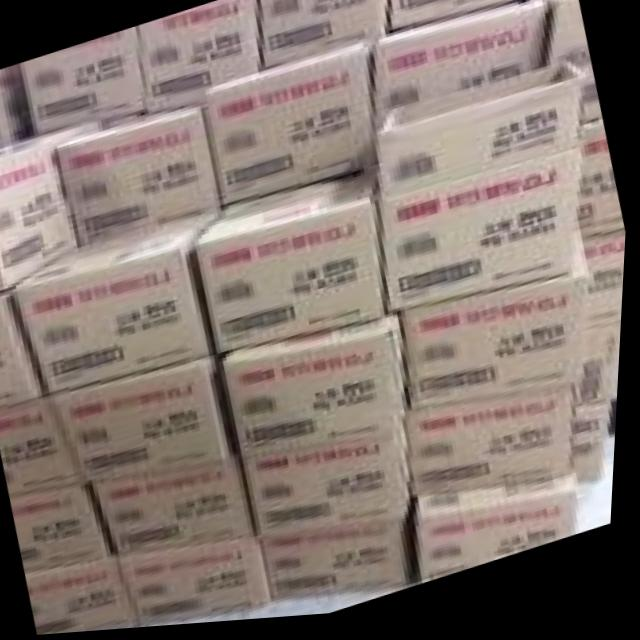box: (404, 212, 594, 417), (12, 214, 223, 394), (198, 174, 388, 357), (384, 154, 585, 318), (221, 314, 417, 463), (206, 41, 374, 214), (377, 68, 588, 204), (374, 1, 546, 153), (46, 357, 243, 486), (58, 110, 223, 246), (243, 420, 419, 545), (417, 477, 586, 591), (0, 120, 106, 294), (413, 393, 579, 504), (90, 463, 265, 559), (265, 508, 424, 605), (139, 0, 263, 118), (118, 545, 282, 630), (17, 27, 141, 135), (258, 0, 390, 75), (0, 396, 90, 500), (15, 486, 121, 574), (31, 560, 148, 636), (524, 0, 596, 92), (581, 91, 625, 237), (0, 291, 46, 410), (584, 225, 629, 341), (389, 0, 522, 36), (578, 334, 625, 417), (577, 415, 616, 493), (0, 64, 27, 144)
